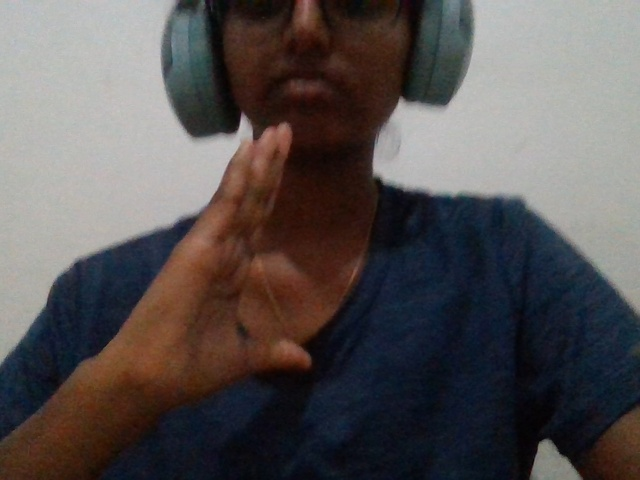Fine: (75, 95, 352, 416)
